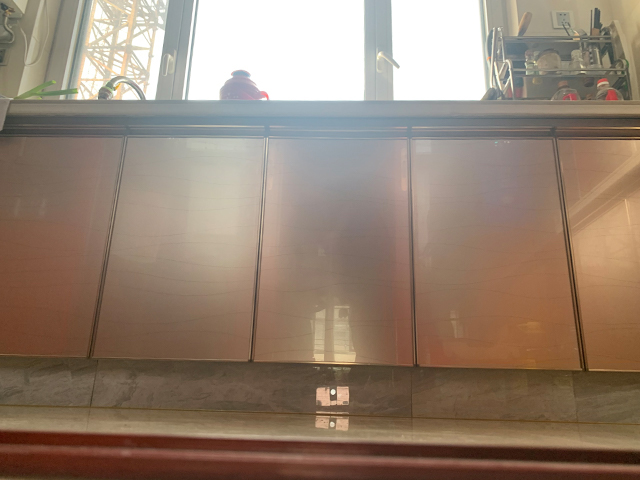cabinet: (1, 99, 640, 425)
